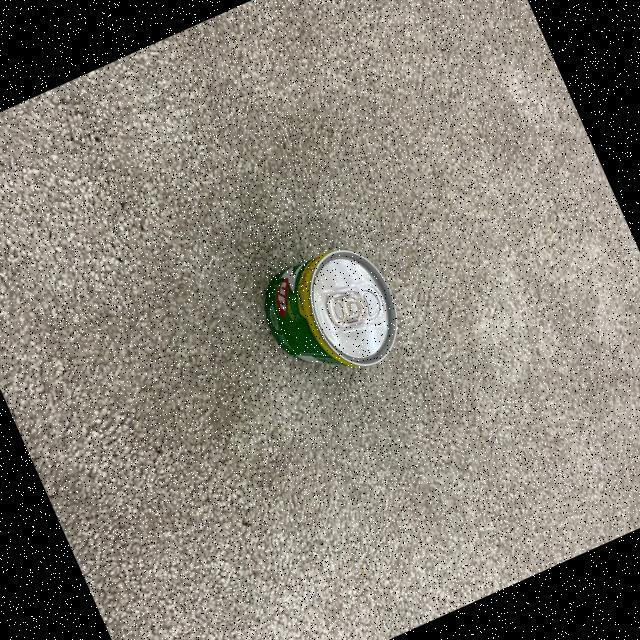can: (245, 224, 418, 400)
